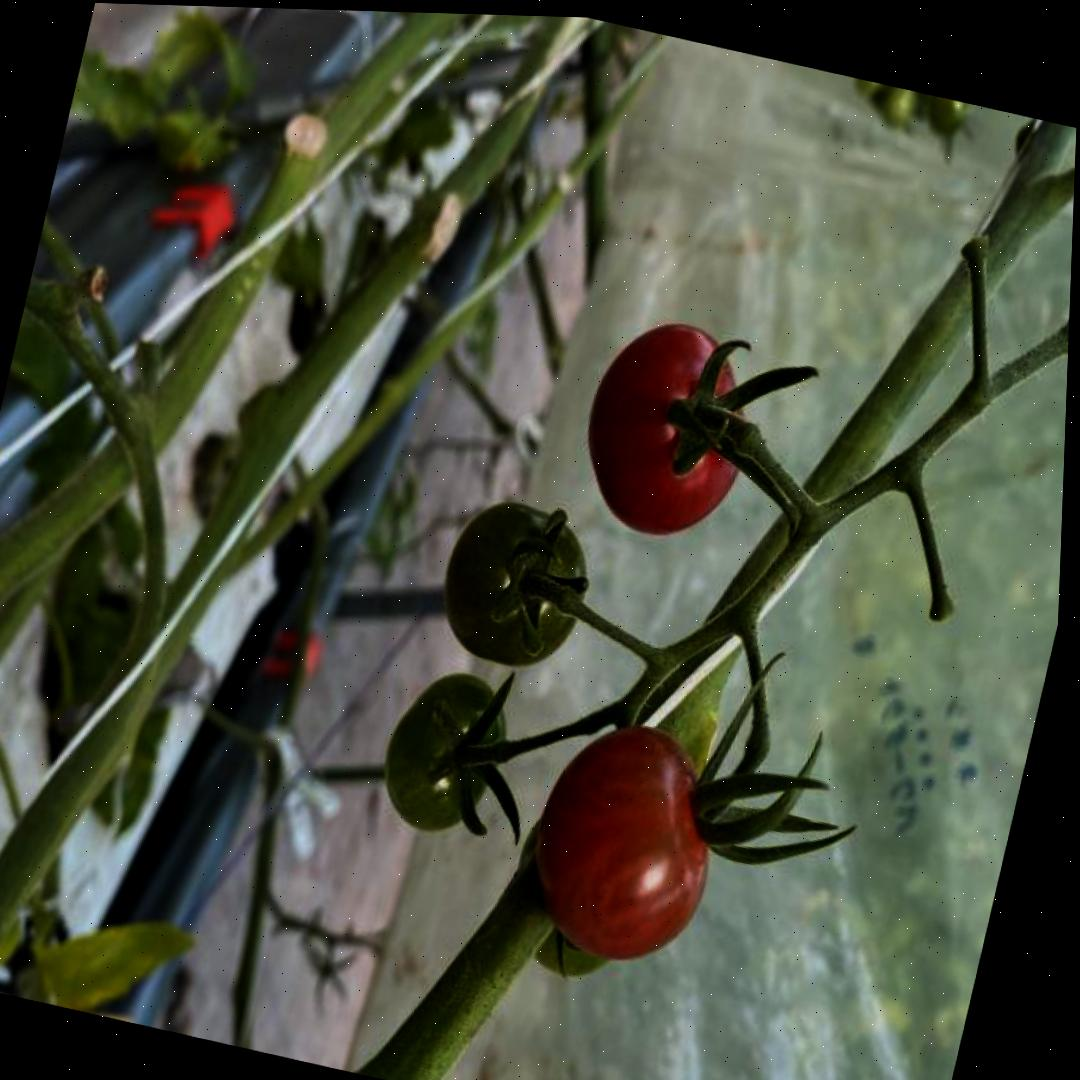matang: (567, 302, 773, 551)
mentah: (426, 486, 606, 679), (370, 660, 525, 849)
setengah_matang: (510, 705, 740, 981)
